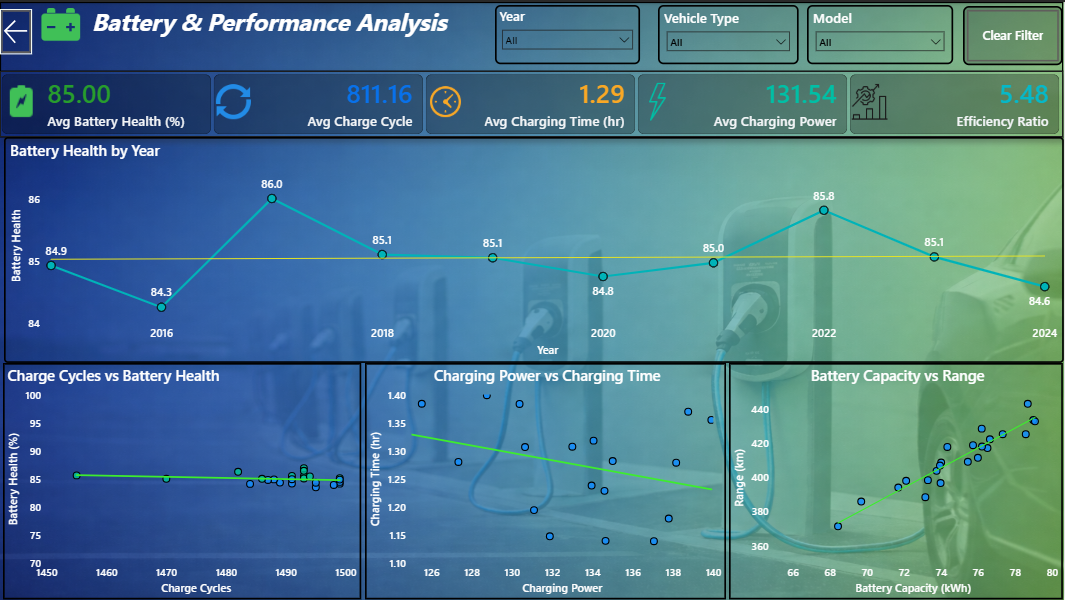

The page's visual inventory and layout, read from the dashboard file:
{"tool":"powerbi","page":{"name":"Battery and Performance","canvas":[1920,1080],"ordinal":1},"visuals":[{"type":"textbox","box":[0,0,1920,125.9],"z":0},{"type":"image","box":[57.8,6.2,103.2,70.2],"z":1000},{"type":"cardVisual","fields":{"Data":["Measure_table.Avg Battery Health (%)","Measure_table.Avg Charge Cycle","Measure_table.Avg Charging Time (hr)","Measure_table.Avg Charging Power (kW)","Measure_table.Efficiency Ratio"]},"box":[0,124.4,1920,120.1],"z":2000},{"type":"slicer","title":"Year","fields":{"Values":["electric_vehicle_analytics.Year"]},"box":[893.9,6.2,262.2,107.4],"z":3000},{"type":"slicer","title":"Vehicle Type","fields":{"Values":["electric_vehicle_analytics.Vehicle_Type"]},"box":[1189.2,6.2,253.9,107.4],"z":4000},{"type":"slicer","title":"Model","fields":{"Values":["electric_vehicle_analytics.Model"]},"box":[1457.5,6.2,264.3,107.4],"z":5000},{"type":"lineChart","title":"Battery Health by Year","fields":{"Category":["electric_vehicle_analytics.Year"],"Y":["Avg(Battery_per_info.Battery_Health_%)"]},"box":[6.4,244.6,1913.6,407.6],"z":6000},{"type":"scatterChart","title":"Charge Cycles vs Battery Health","fields":{"X":["Max(Battery_per_info.Charge_Cycles)"],"Y":["Avg(Battery_per_info.Battery_Health_%)"],"Category":["electric_vehicle_analytics.Model"]},"box":[6.2,652.4,647,427.4],"z":7000},{"type":"scatterChart","title":"Battery Capacity vs Range","fields":{"X":["Avg(Battery_per_info.Battery_Capacity_kWh)"],"Y":["Avg(Battery_per_info.Range_km)"],"Category":["electric_vehicle_analytics.Model","electric_vehicle_analytics.Make"]},"box":[1317.2,652.4,602.8,427.4],"z":8000},{"type":"scatterChart","title":"Charging Power vs Charging Time","fields":{"Y":["Avg(Battery_per_info.Charging_Time_hr)"],"X":["Avg(Battery_per_info.Charging_Power_kW)"],"Category":["electric_vehicle_analytics.Model"]},"box":[658.6,652.4,652,427.4],"z":9000},{"type":"actionButton","box":[1739.8,6.4,180.2,107.3],"z":10000},{"type":"actionButton","box":[0,12.9,57.9,81.5],"z":11000}]}

Visuals, with their boxes in screenshot pixels (x1, y1, x2, y2), scaled from the page's 1920x1080 canvas onto the 1065x600 screenshot:
textbox: box(0, 0, 1064, 70)
image: box(32, 3, 89, 42)
cardVisual - Measure_table.Avg Battery Health (%) x Measure_table.Avg Charge Cycle: box(0, 69, 1064, 136)
"Year" slicer: box(496, 3, 641, 63)
"Vehicle Type" slicer: box(660, 3, 800, 63)
"Model" slicer: box(808, 3, 955, 63)
"Battery Health by Year" lineChart: box(4, 136, 1064, 362)
"Charge Cycles vs Battery Health" scatterChart: box(3, 362, 362, 599)
"Battery Capacity vs Range" scatterChart: box(731, 362, 1064, 599)
"Charging Power vs Charging Time" scatterChart: box(365, 362, 727, 599)
actionButton: box(965, 4, 1064, 63)
actionButton: box(0, 7, 32, 52)
